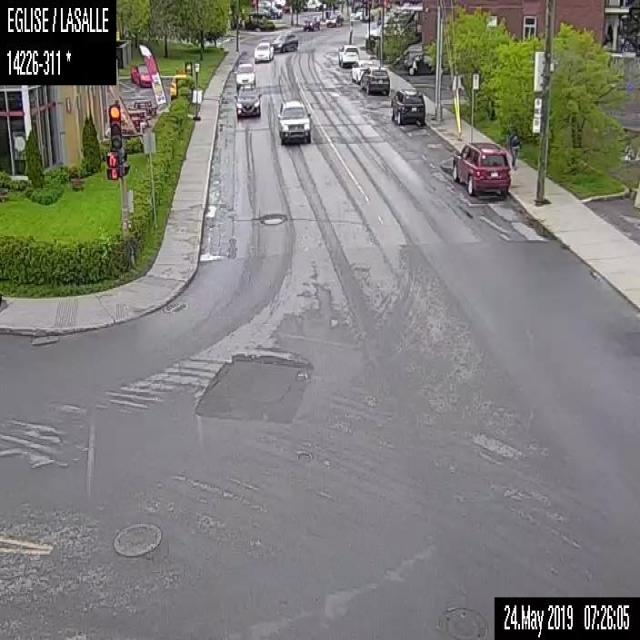pedestrian: (508, 126, 521, 171)
vehicle: (450, 139, 512, 197), (274, 96, 311, 145), (389, 88, 424, 125), (234, 84, 260, 118), (404, 50, 434, 75), (169, 73, 194, 102), (359, 66, 389, 90), (272, 30, 298, 52), (352, 58, 374, 81), (130, 63, 152, 85), (233, 62, 254, 85), (339, 44, 359, 66), (253, 42, 272, 62), (303, 14, 320, 30), (327, 12, 342, 27)
